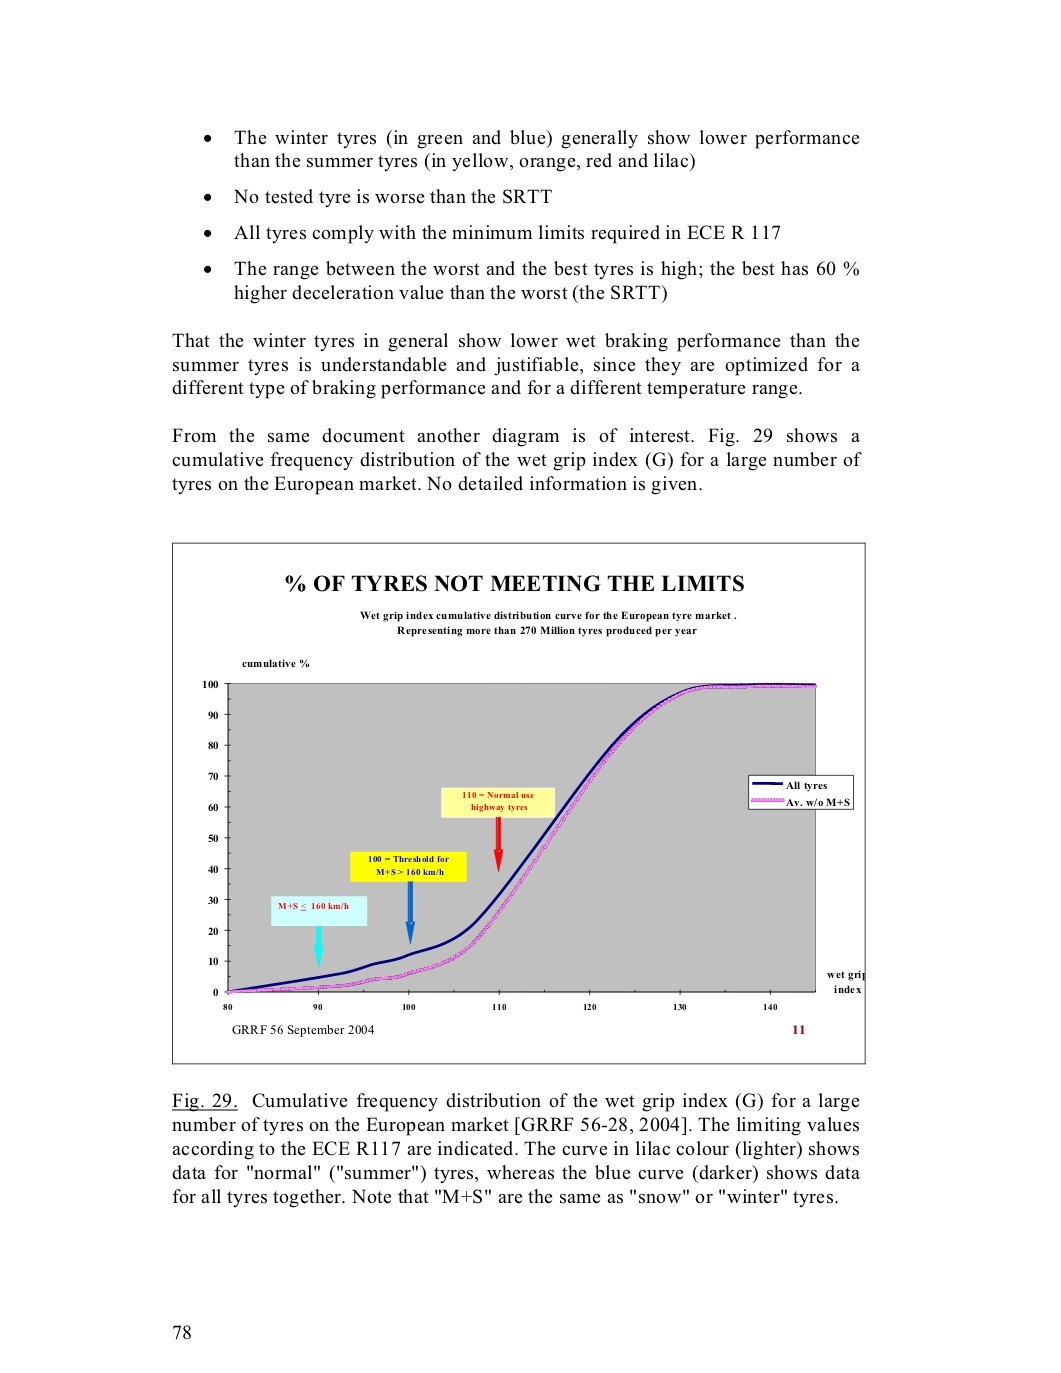figure: (172, 541, 865, 1065)
